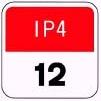sinais: (0, 1, 101, 101)
